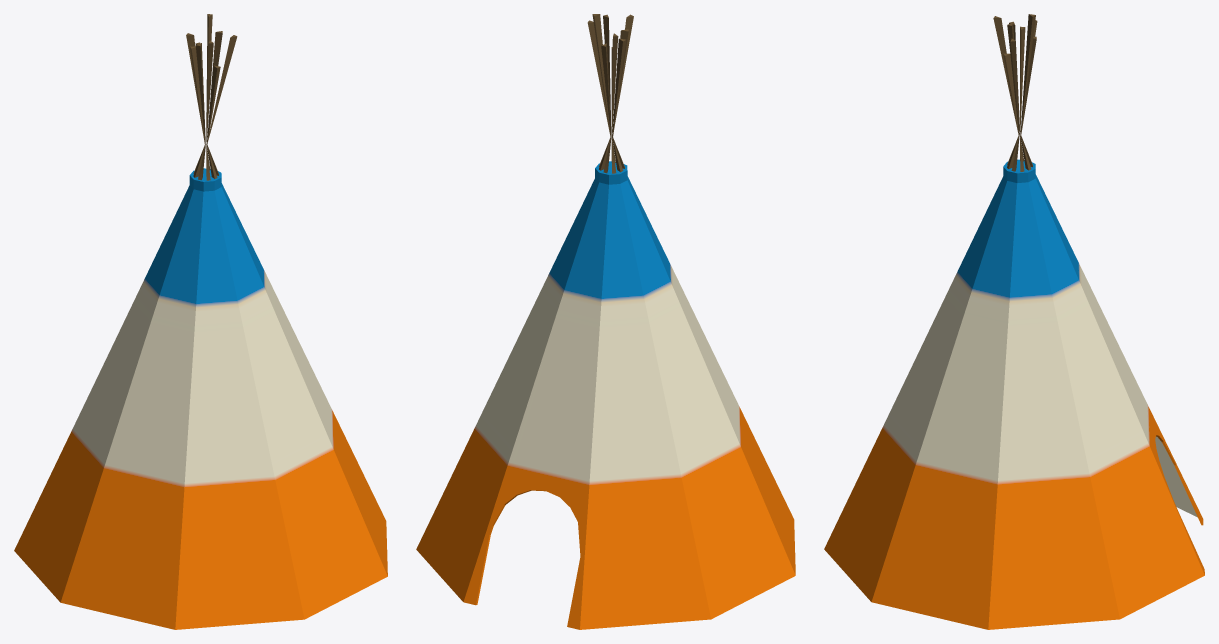
Rendered from model_polytope_teepee02.fbx.
3 views of the same model, side by side, from view 1: azimuth 30°, elevation 25°; view 2: azimuth 150°, elevation 25°; view 3: azimuth 270°, elevation 25° (orthographic).
Parts seen in each view (by area): view 1: model_polytope_teepee02; view 2: model_polytope_teepee02; view 3: model_polytope_teepee02.
Boxes of the visible parts, <box> form: model_polytope_teepee02: <box>14,14,387,629</box>; model_polytope_teepee02: <box>416,14,795,629</box>; model_polytope_teepee02: <box>824,14,1204,629</box>.
Size of the model in its own units: 551 by 846 by 543.
